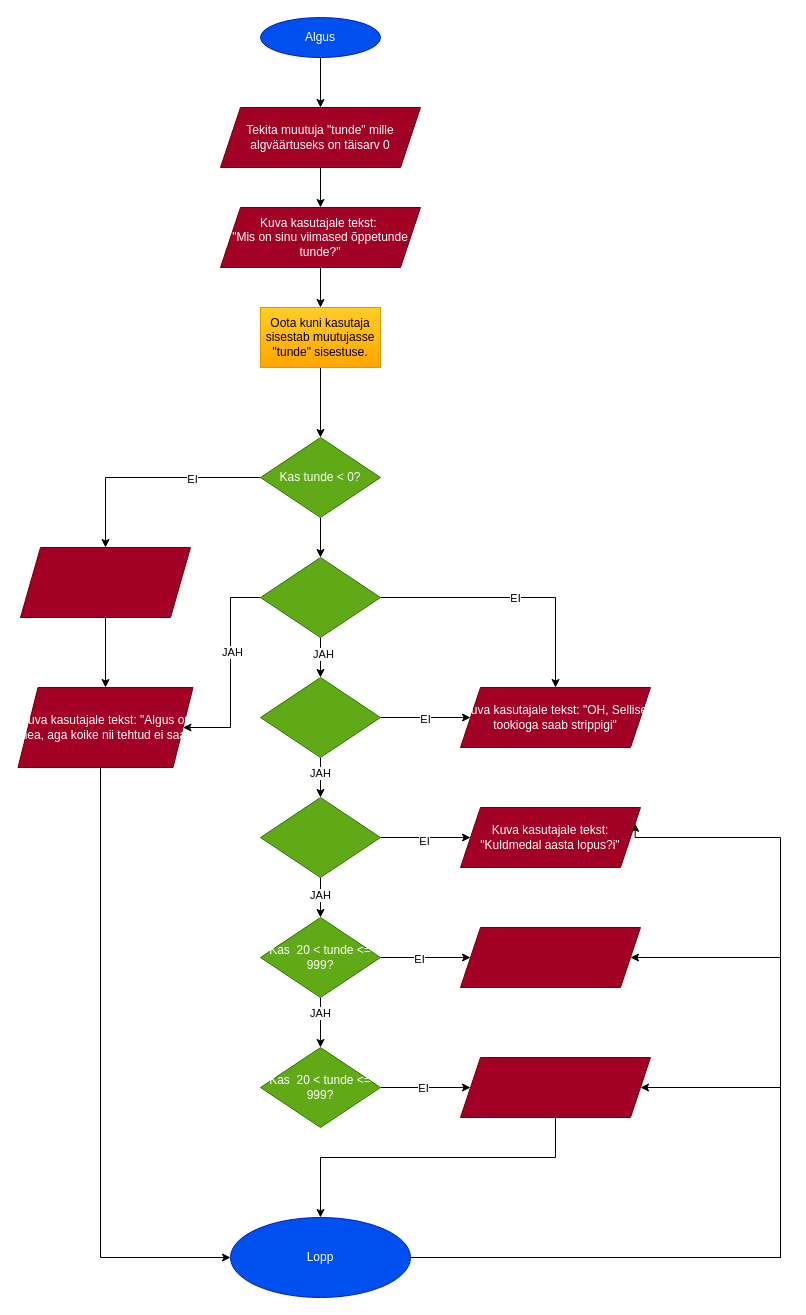
Image size: 806x1315. Some labels were removed from this diagram. Each missing label, with the box of its shape:
Kas 0 <= tunde <= 5?: (260, 556, 380, 638)
Kas 10 < tunde <= 20?: (260, 796, 380, 878)
Kas 5 < tunde <= 10?: (260, 676, 380, 758)
Kuva kasutajale tekst: "Kahju et sa endast lugu ei pea :C": (20, 546, 190, 618)
Kuva kasutajale tekst: "Siin peaks juba sekkuma psuholoog": (460, 926, 640, 988)
Kuva kasutajale tekst: "WOW, see on uskumatu tulemus! Palju onne!": (460, 1056, 650, 1118)
